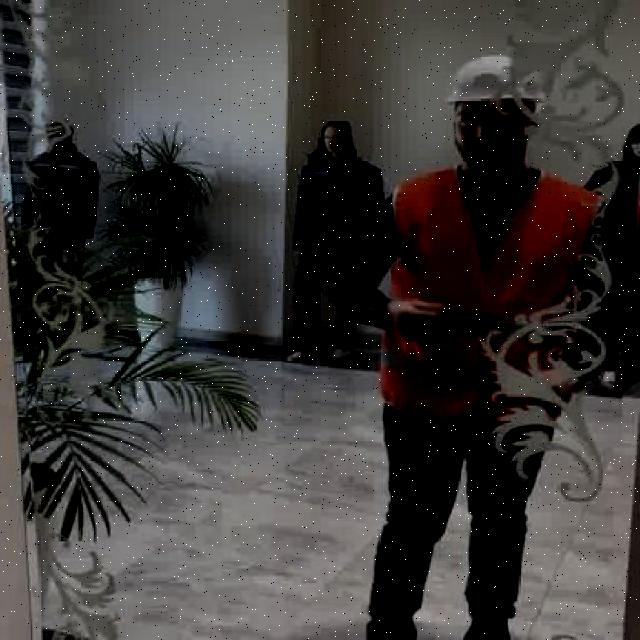Helmet: (445, 54, 550, 103)
Mask: (376, 163, 610, 424), (288, 156, 390, 356), (583, 153, 640, 382), (17, 136, 108, 252)
